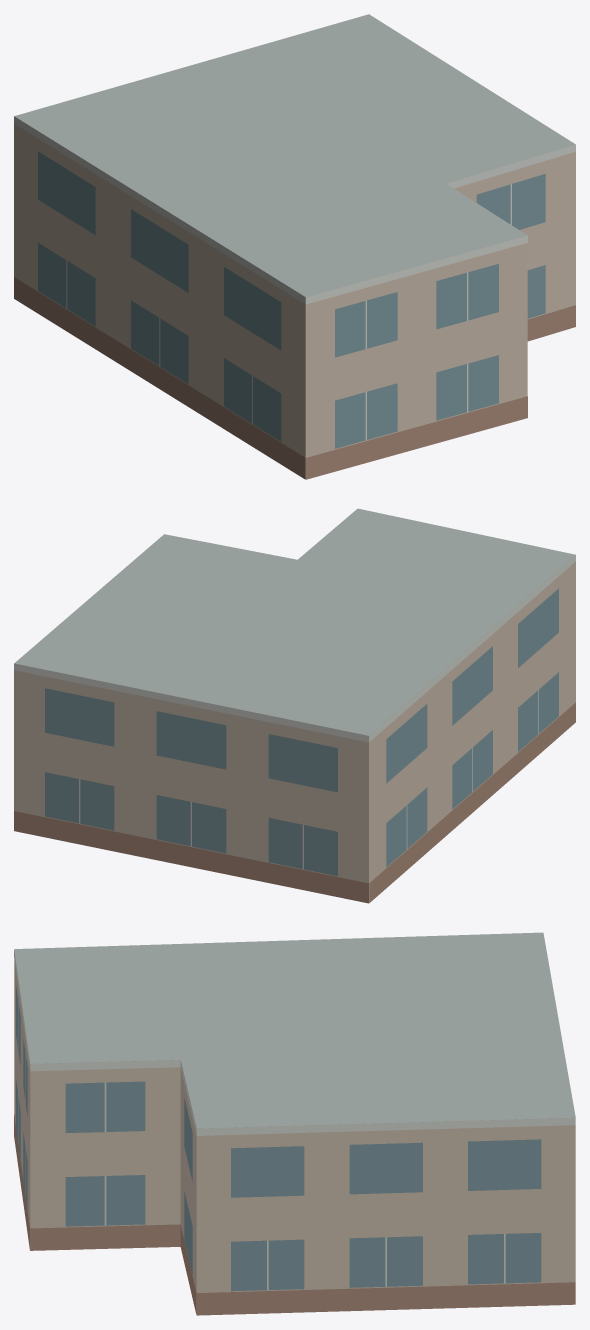
The model's file is survey-upis-32775459.glb.
3 views of the same model, one above another, from view 1: azimuth 30°, elevation 25°; view 2: azimuth 150°, elevation 25°; view 3: azimuth 270°, elevation 25° (orthographic). The views are drawn at different scales.
Visible parts, largest first — view 1: survey-upis-32775459.tmp; view 2: survey-upis-32775459.tmp; view 3: survey-upis-32775459.tmp.
Boxes of the visible parts, x1,y1,x2,y2 form: survey-upis-32775459.tmp: (14,14,575,479); survey-upis-32775459.tmp: (14,508,575,903); survey-upis-32775459.tmp: (14,932,575,1315).
Bounding box in the file's own units: 13.73 × 6.1 × 16.62.
